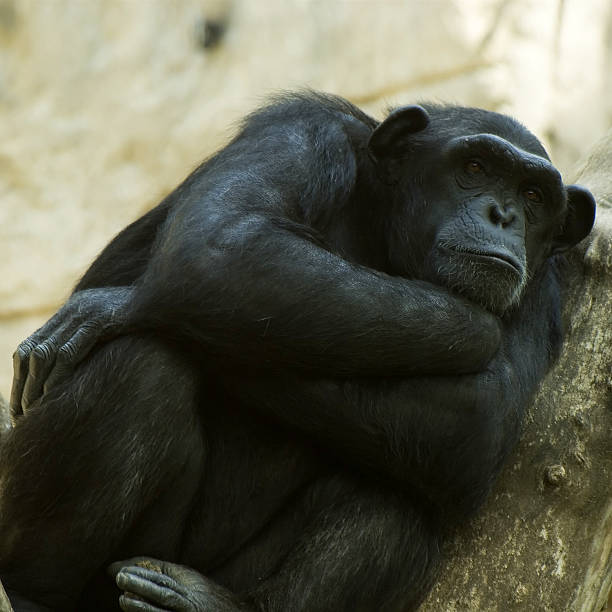chimpanzee: (360, 76, 602, 349)
